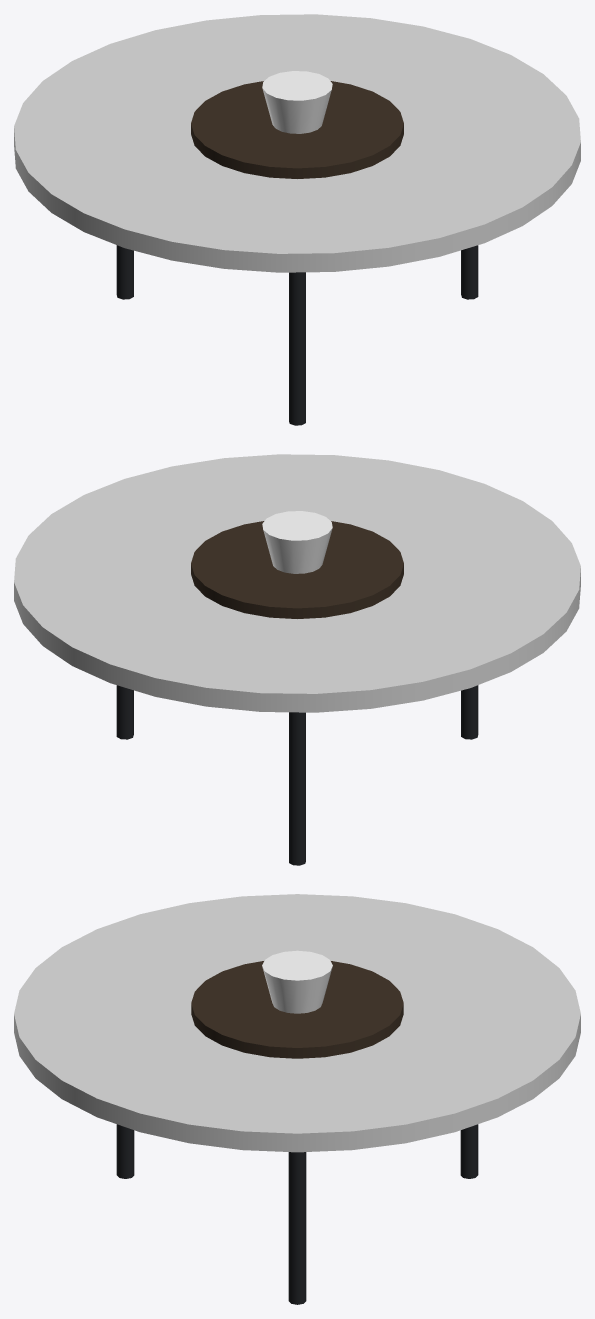
The model's file is archviz_coffee_table_round_marble.glb.
3 renders of one model, top to bottom at view 1: azimuth 30°, elevation 25°; view 2: azimuth 150°, elevation 25°; view 3: azimuth 270°, elevation 25°, orthographic.
Size of the model in its own units: 0.96 by 0.47 by 0.96.
